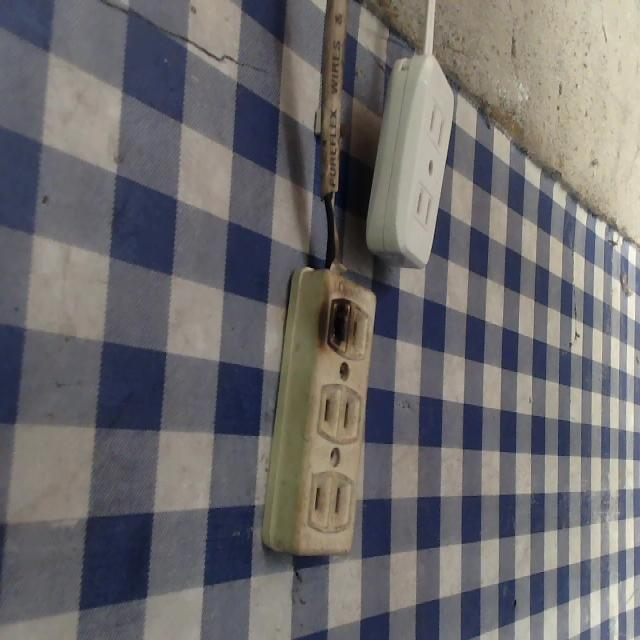-: (318, 291, 358, 361)
